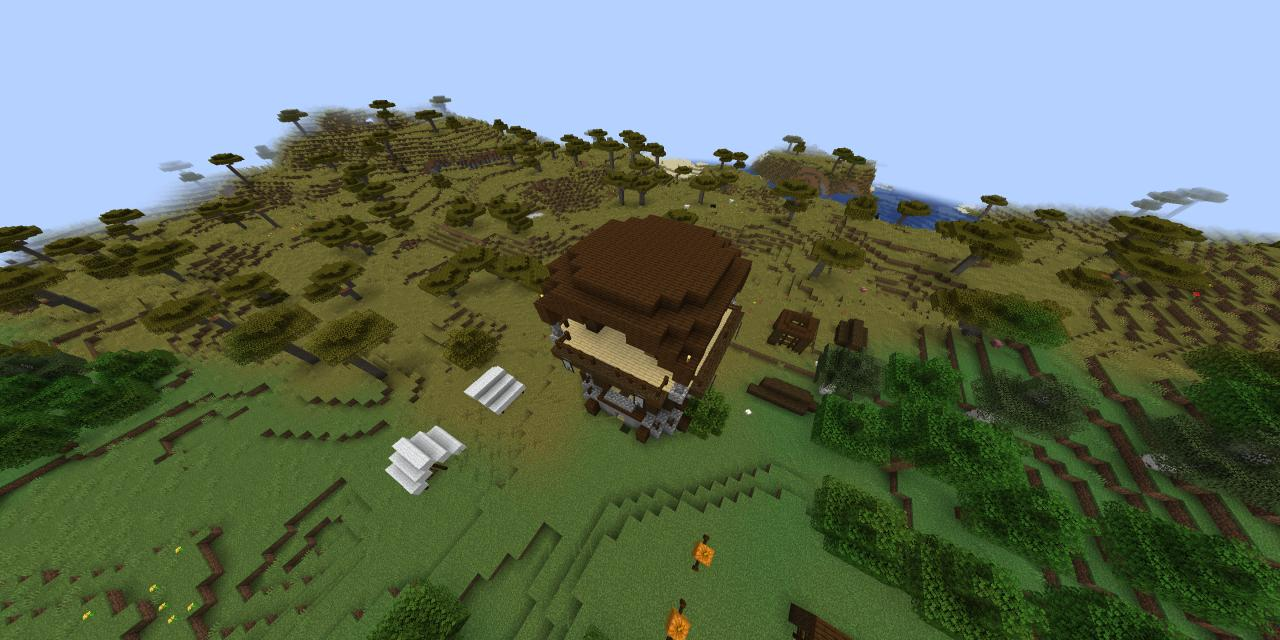pillager outpost: (535, 204, 754, 458)
